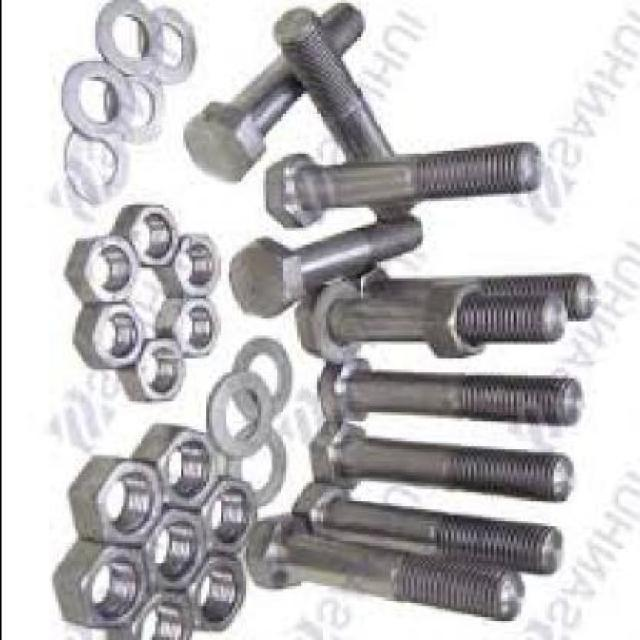METAL: (185, 9, 367, 188), (276, 11, 427, 222), (250, 520, 524, 623), (295, 486, 563, 580), (298, 284, 572, 367), (267, 156, 544, 230), (227, 217, 424, 318), (313, 429, 578, 503), (319, 358, 586, 429), (348, 264, 597, 322), (70, 460, 164, 549), (54, 546, 151, 629), (143, 426, 220, 516), (66, 62, 136, 146), (145, 508, 207, 594), (424, 284, 488, 364), (97, 3, 165, 77), (211, 376, 272, 458), (233, 344, 293, 421), (66, 130, 128, 204), (77, 305, 145, 372), (139, 11, 199, 86), (117, 342, 188, 403), (228, 429, 284, 506), (202, 481, 260, 552), (157, 238, 225, 298), (69, 242, 136, 302), (120, 208, 182, 270), (114, 74, 168, 144), (198, 558, 248, 632), (114, 594, 195, 638), (160, 304, 222, 358)
